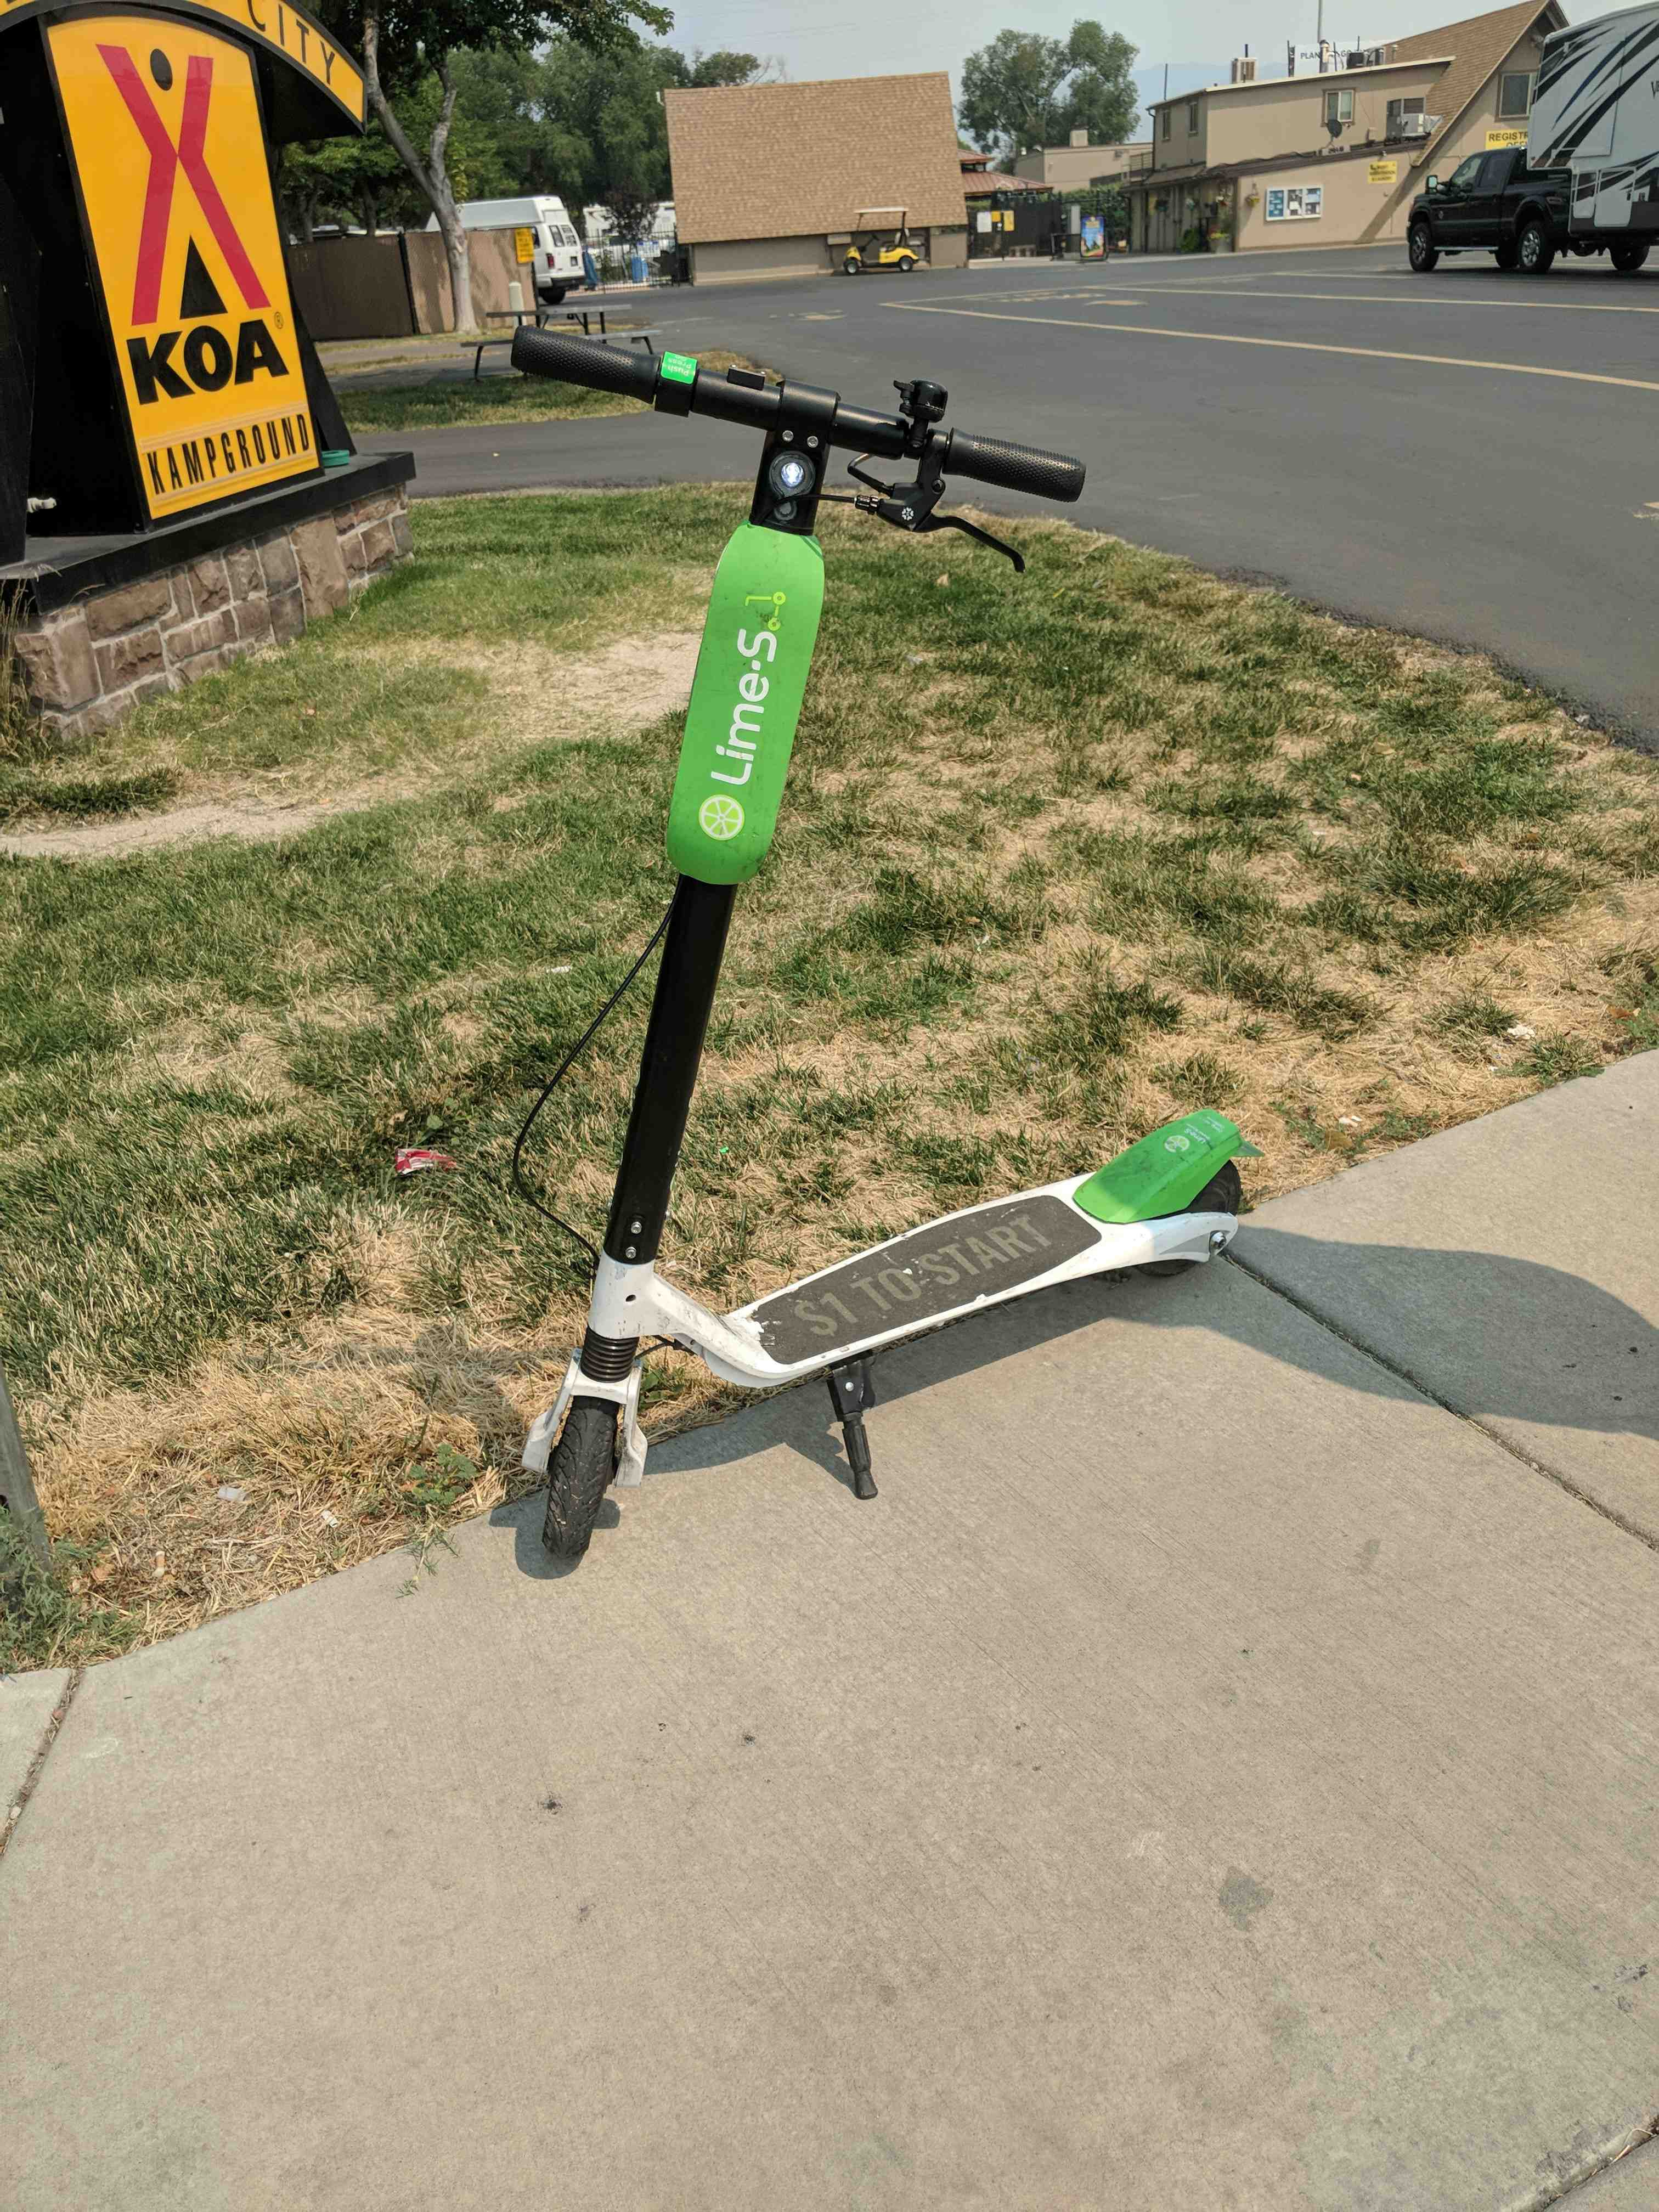scooter: (467, 308, 1277, 1597)
